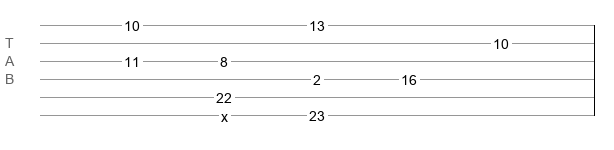10: (124, 18, 140, 28), (493, 36, 509, 46)
11: (124, 54, 140, 64)
13: (309, 18, 325, 28)
16: (401, 72, 417, 82)
2: (313, 72, 321, 82)
22: (216, 90, 232, 100)
23: (309, 108, 325, 118)
8: (220, 54, 228, 64)
x: (221, 109, 228, 117)
